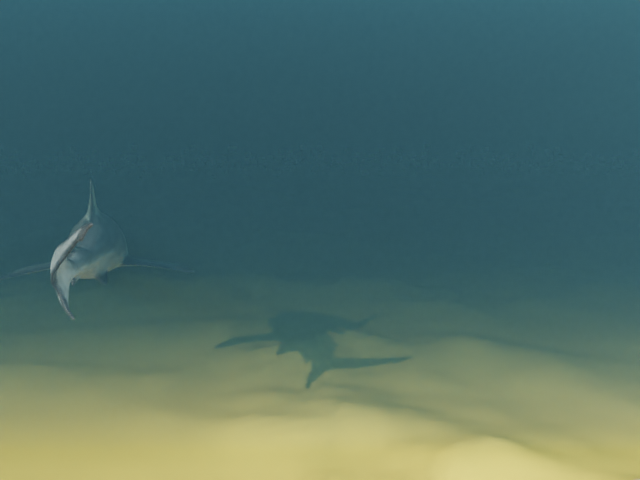Carribean Shark.001: (0, 178, 195, 320)
